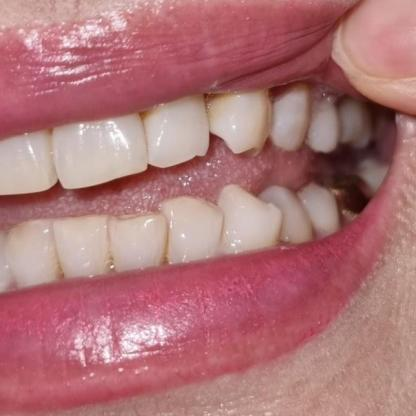Healthy: (5, 211, 164, 276)
